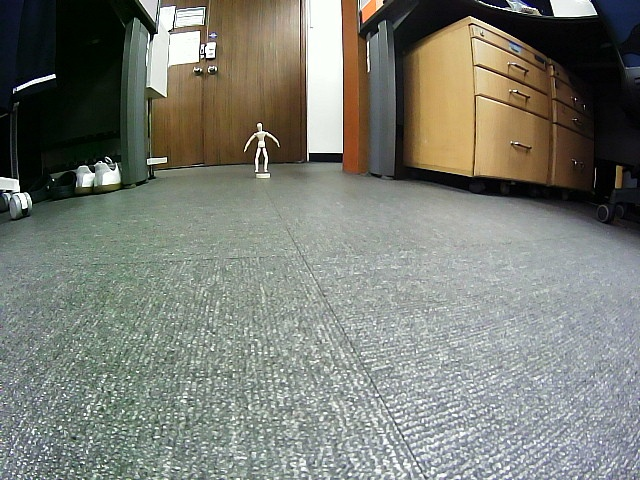person: (244, 122, 280, 173)
